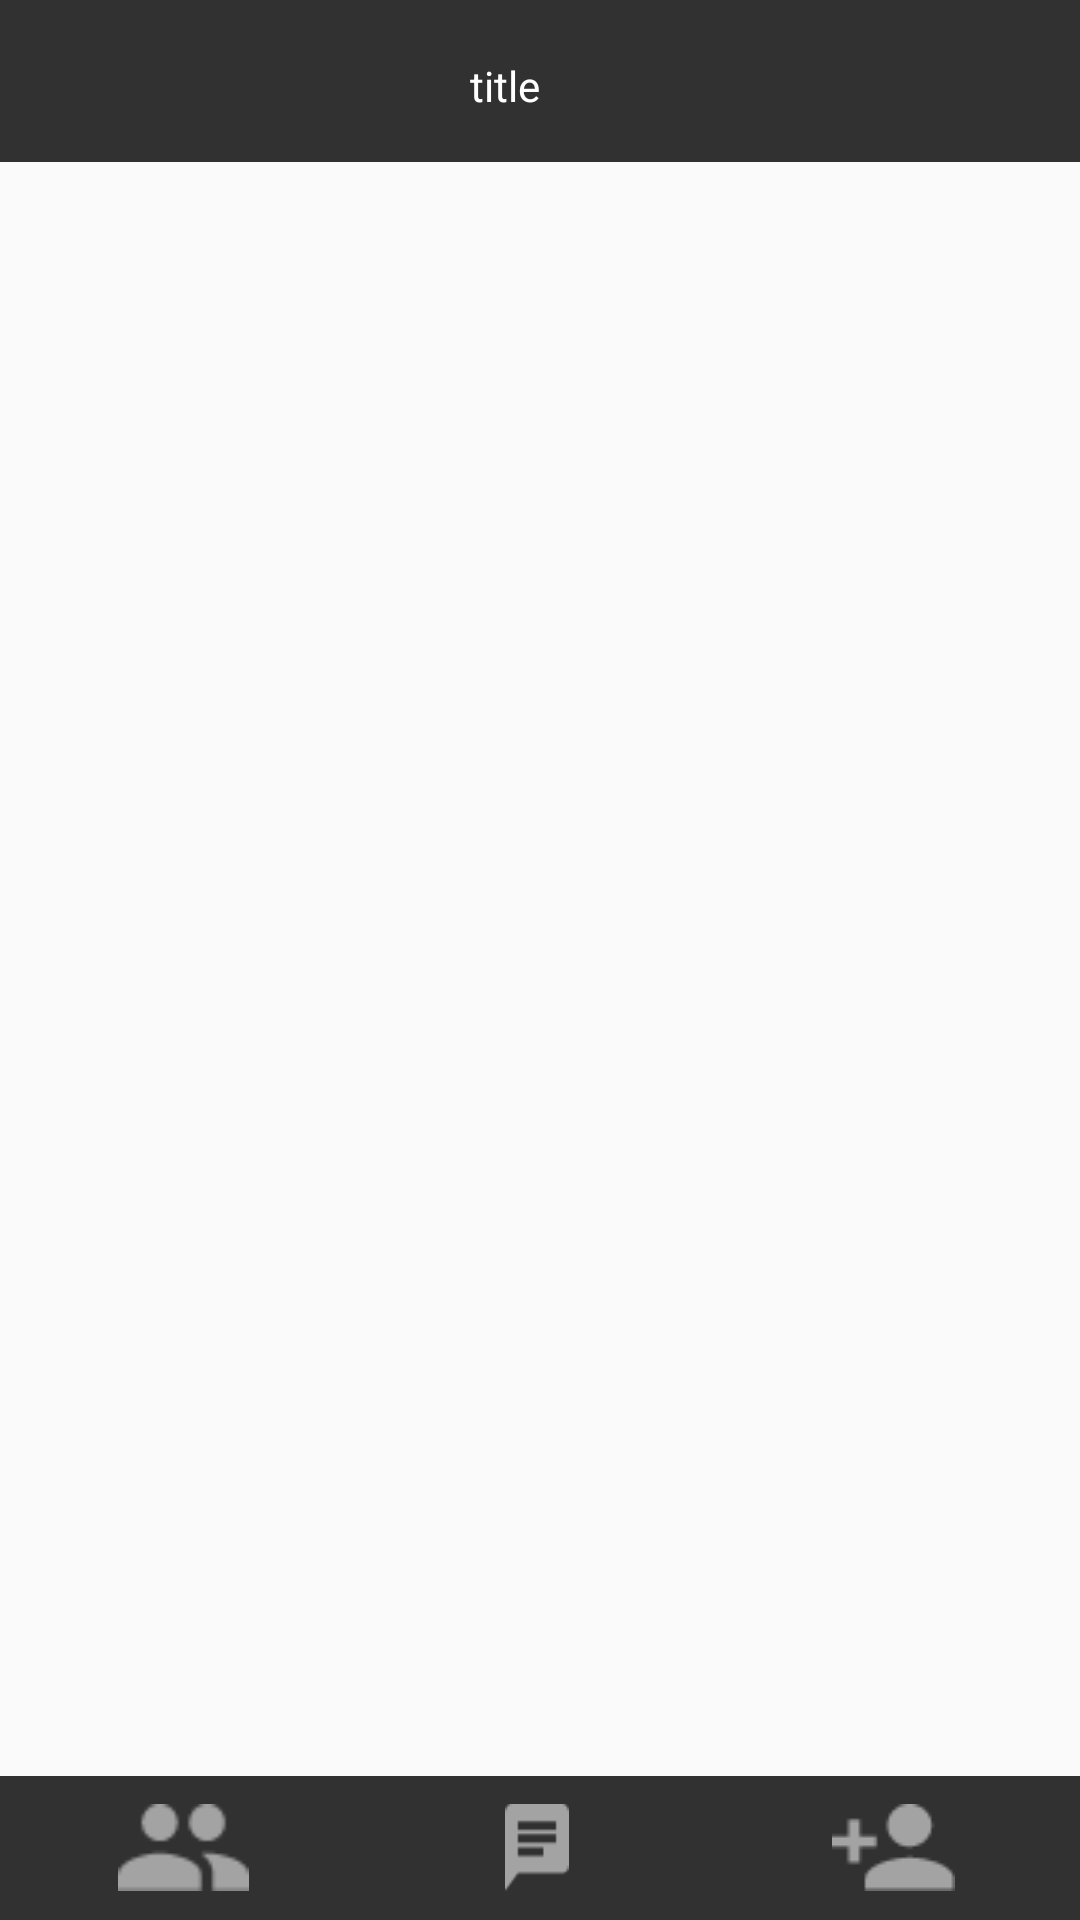

Screen size 1080*1920. Icon name, then its center in pixels as (x=x, y=y):
add friend: (x=893, y=1847)
chat: (x=537, y=1847)
friend list: (x=183, y=1847)
